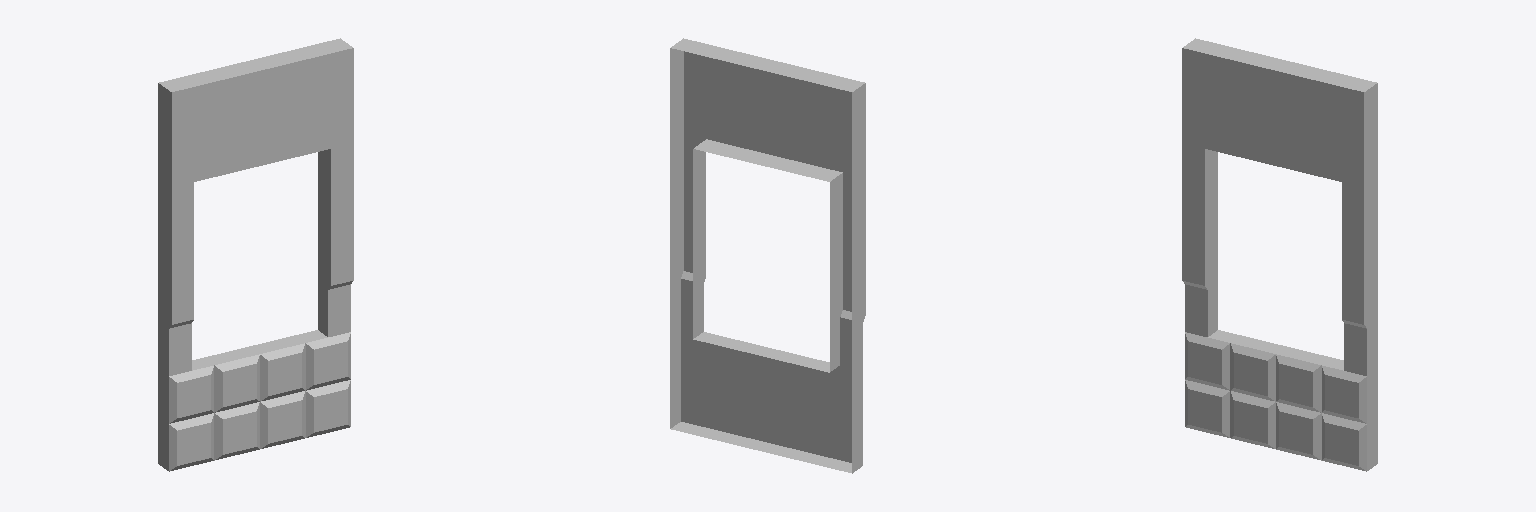
Rendered from wall_modular_tiled_window_small_A.obj.
3 views of the same model, side by side, from view 1: azimuth 30°, elevation 25°; view 2: azimuth 150°, elevation 25°; view 3: azimuth 330°, elevation 25° (orthographic).
Visible parts, largest first — view 1: wall_modular_tiled_window_small_A; view 2: wall_modular_tiled_window_small_A; view 3: wall_modular_tiled_window_small_A.
Boxes of the visible parts, <box> form: wall_modular_tiled_window_small_A: <box>158,38,353,471</box>; wall_modular_tiled_window_small_A: <box>670,38,865,473</box>; wall_modular_tiled_window_small_A: <box>1182,38,1377,471</box>.
Bounding box in the file's own units: 2 × 4 × 0.2508.